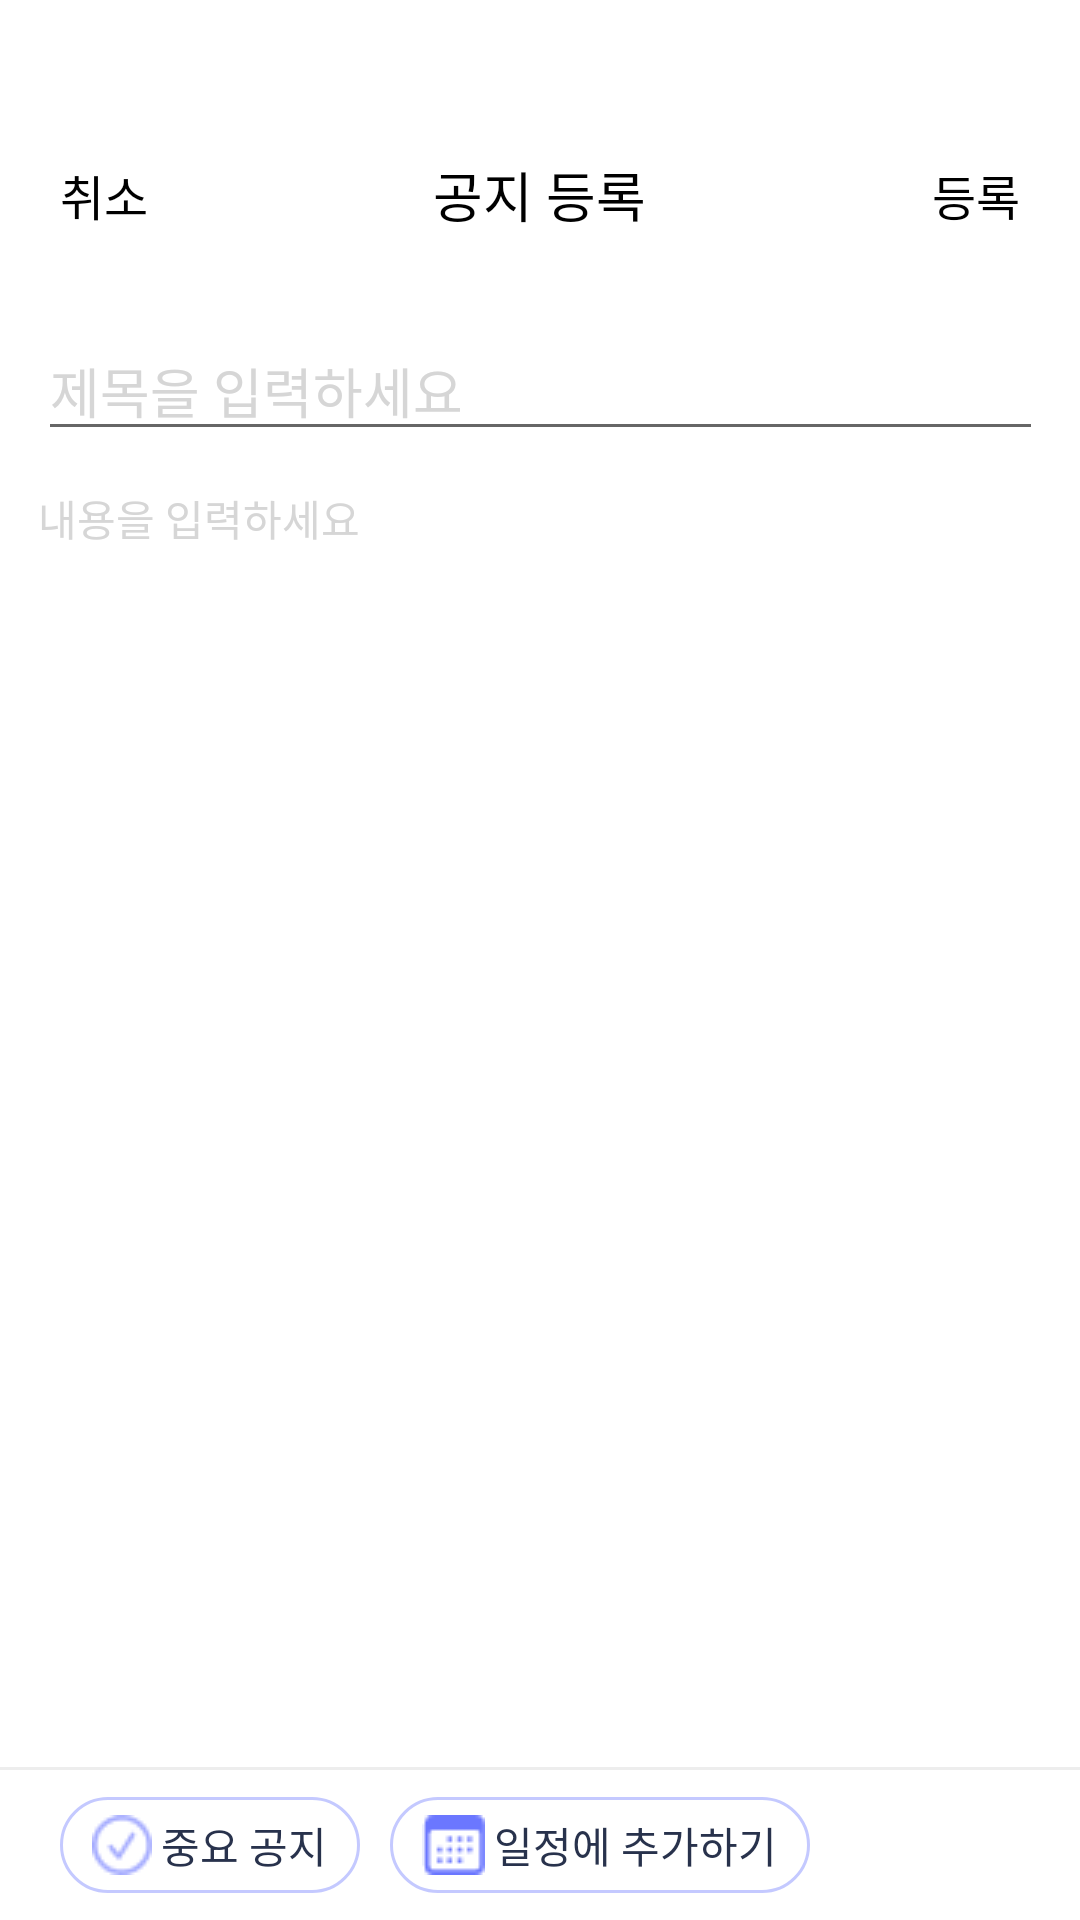

Icons on this 1080px×1920px Android screen, each with the point to tap as (x,y):
noticecheck: (122,1845)
noticesche: (454,1845)
